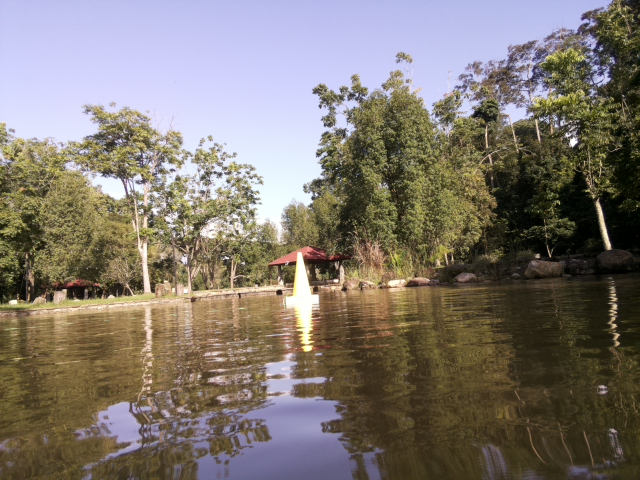checkpoint: (281, 251, 322, 306)
